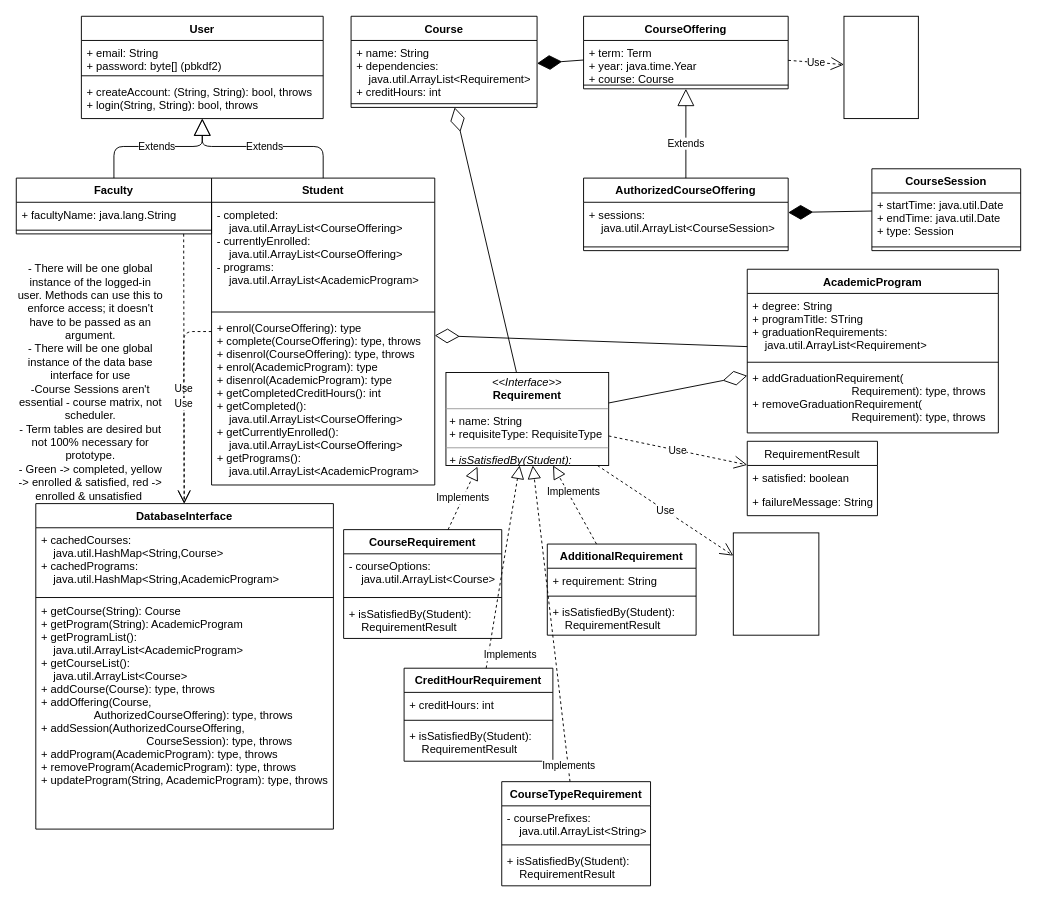
Image size: 1037x905. Some labels were removed from this diagram. The shapes that lost their labels are listed below. From the top down, each one's centre as x and y in pixels, then its label:
(x=880, y=67): <<enum>> Term + Fall + Winter + Summer
(x=775, y=583): <<enum>> RequisiteType + Coreq + Prereq
